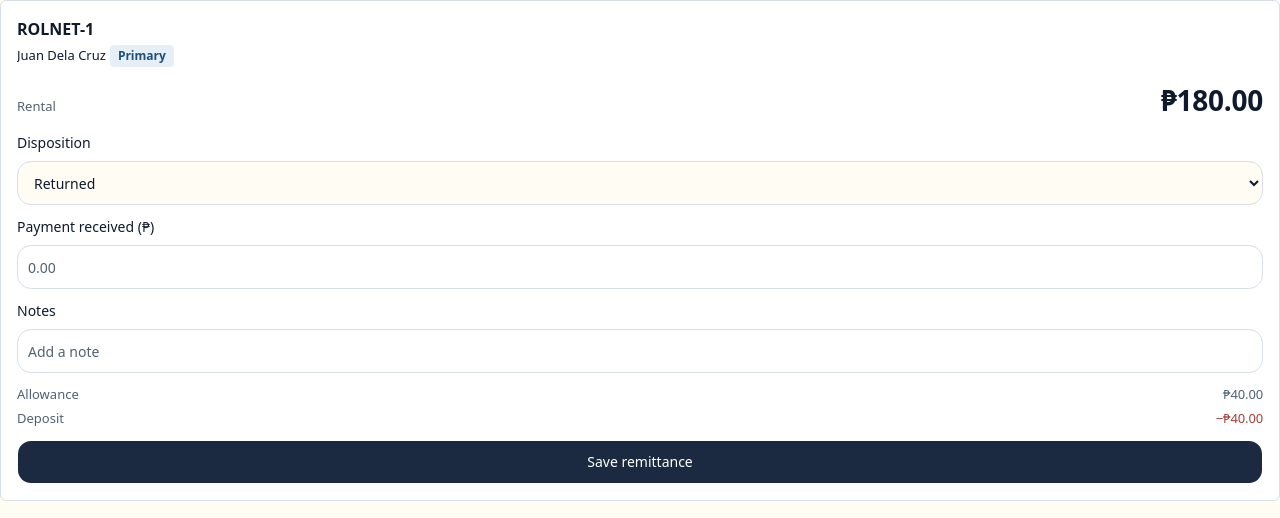
DailyCard: Rental, Allowance and Deposit (feature 009, User Story 1) › shows the allowance and a live deposit while typing (FR-010, FR-011)
The width and height of the screenshot is (1280, 518).
Expected: the element showing "₱40.00" is shown, [1223,385,1263,403]
Expected: the element showing "−₱40.00" is shown, [1216,409,1263,427]
Type "180" into the field labelled "Payment received (₱)" at (640, 267), box [17,245,1263,289]
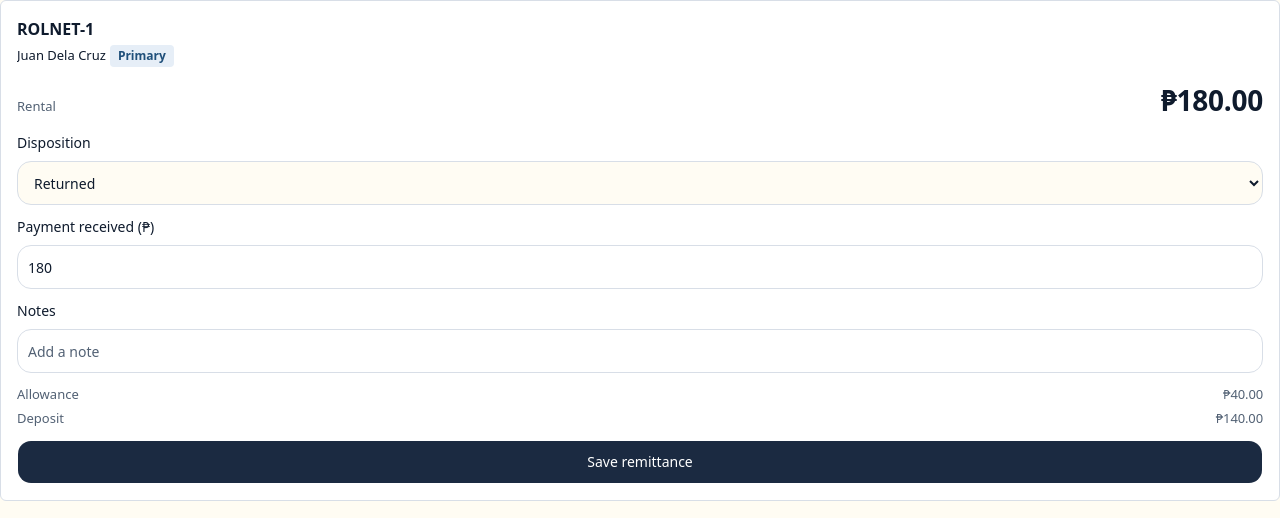
Expected: the element showing "₱140.00" is shown, [1216,409,1263,427]
Replace the text in the field labelled "Payment received (₱)" with "100" at (640, 267), box [17,245,1263,289]
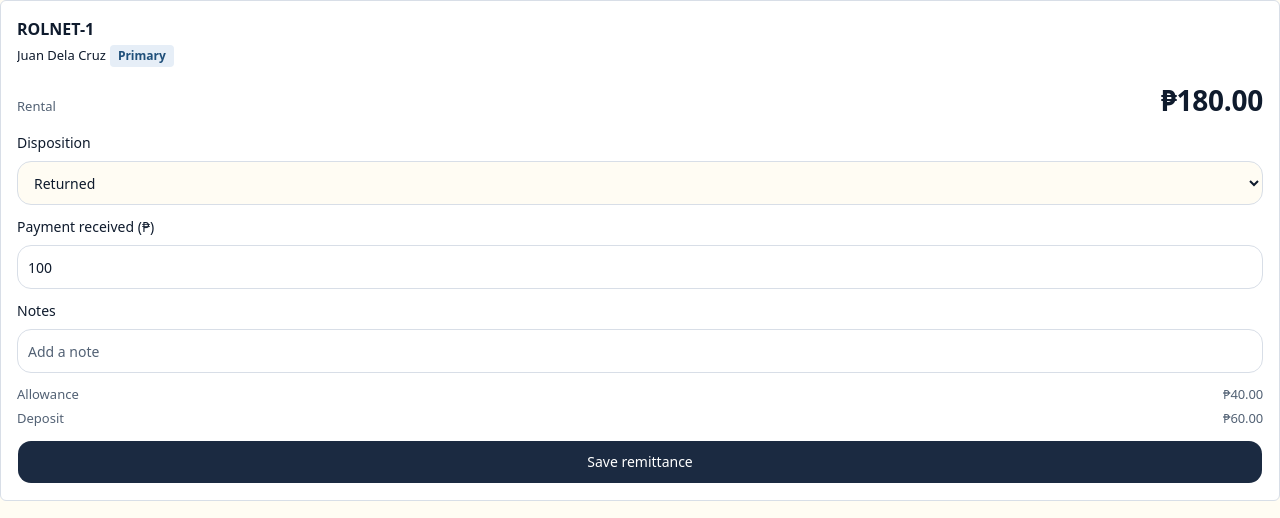
Expected: the element showing "₱60.00" is shown, [1223,409,1263,427]
Replace the text in the field labelled "Payment received (₱)" with "0" at (640, 267), box [17,245,1263,289]
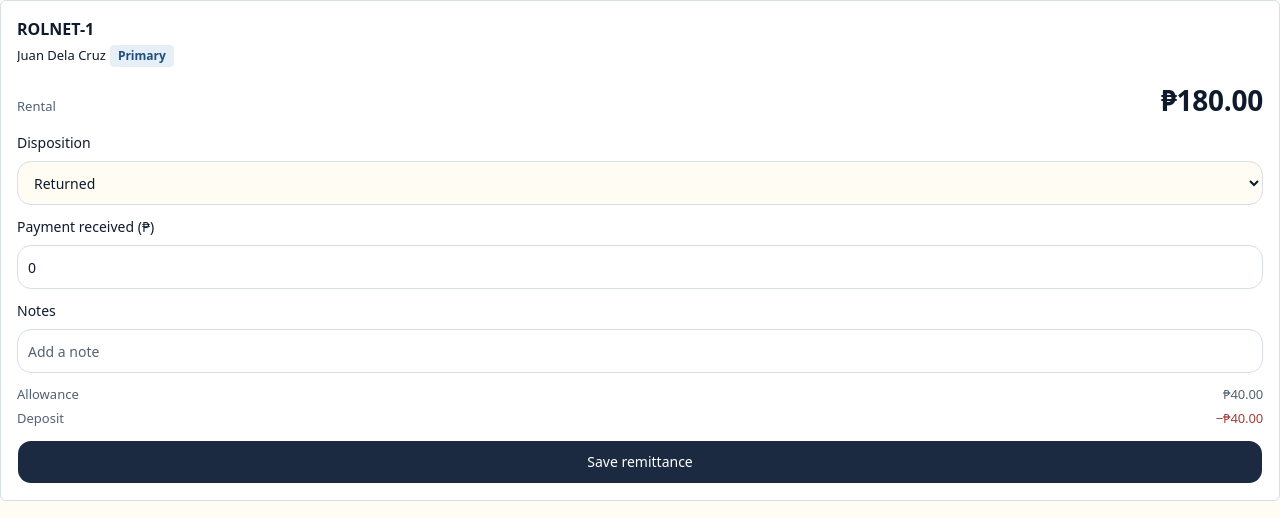
Expected: the element showing "−₱40.00" is shown, [1216,409,1263,427]
Replace the text in the field labelled "Payment received (₱)" with "abc" at (640, 267), box [17,245,1263,289]
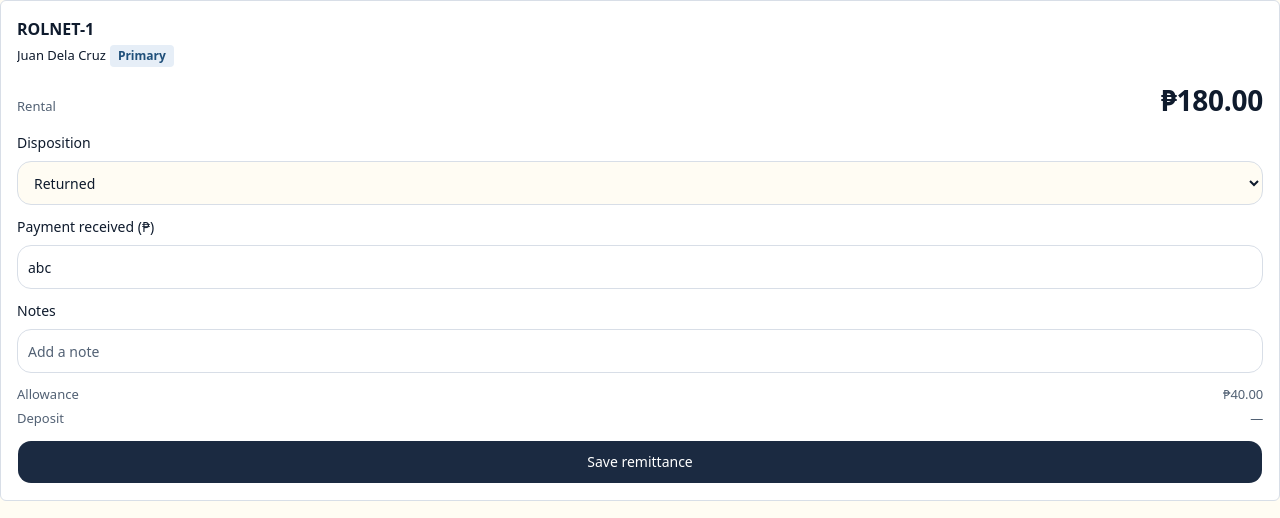
Expected: the text "—" is shown, [1250,409,1263,427]
